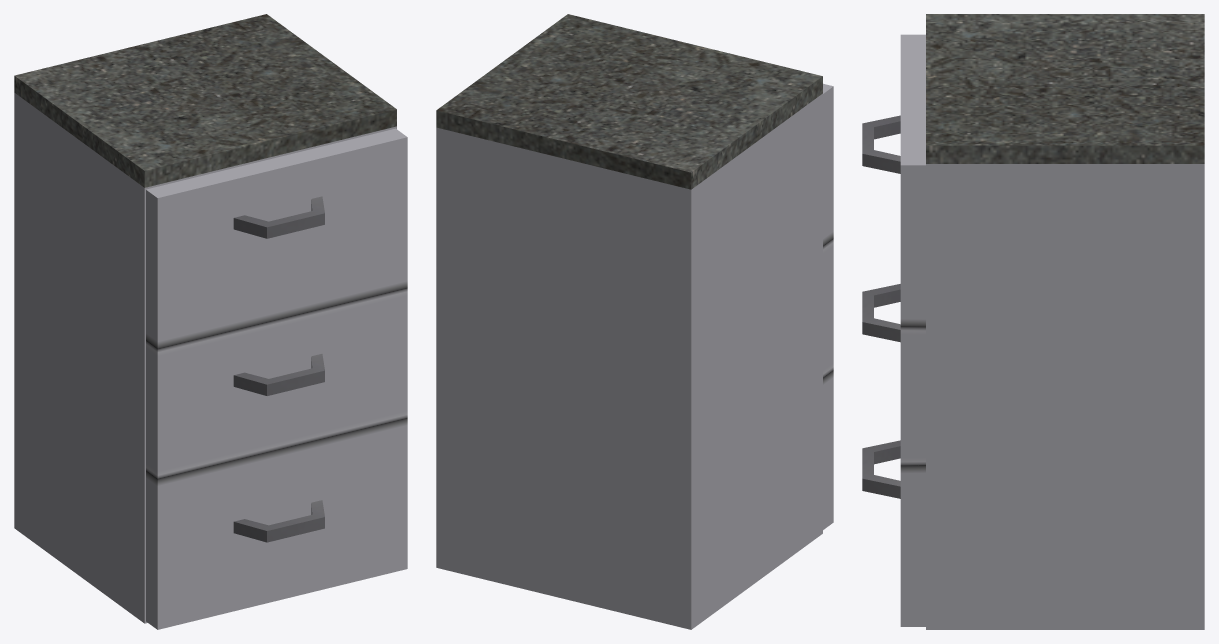
The model's file is Kitchen_Cabinet_2B.fbx.
The picture shows the model from 3 angles, left to right: view 1: azimuth 30°, elevation 25°; view 2: azimuth 150°, elevation 25°; view 3: azimuth 270°, elevation 25°; orthographic projection. The views are drawn at different scales.
Parts seen in each view (by area): view 1: polySurface1566; view 2: polySurface1566; view 3: polySurface1566.
Boxes of the visible parts, box(x1,y1,x2,y2) form: polySurface1566: box(14, 14, 407, 629); polySurface1566: box(436, 14, 833, 629); polySurface1566: box(862, 14, 1204, 629).
Bounding box in the file's own units: 0.7792 × 1.34 × 0.8565.
